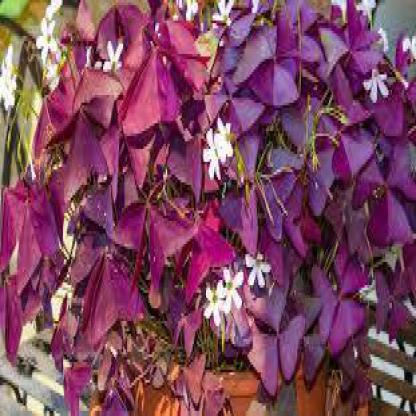Kupu-Kupu: (314, 242, 377, 407), (132, 14, 192, 142), (4, 166, 59, 297), (245, 258, 297, 391), (79, 243, 142, 351), (263, 19, 297, 109)
